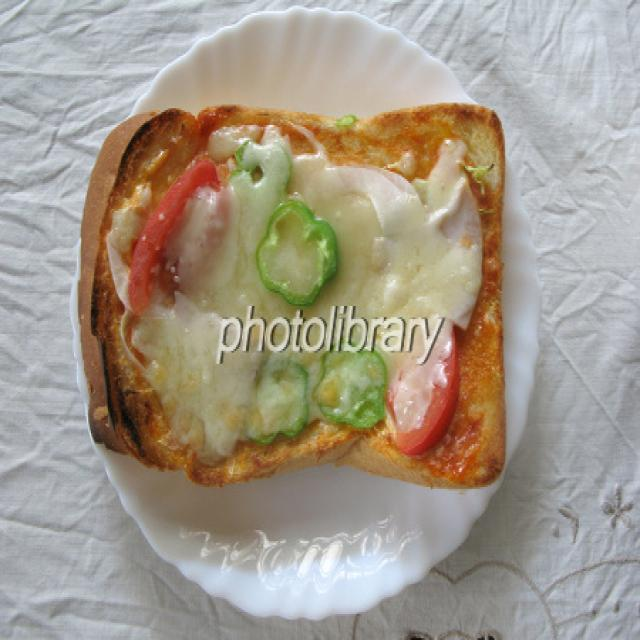面包点心: (61, 11, 526, 640)
